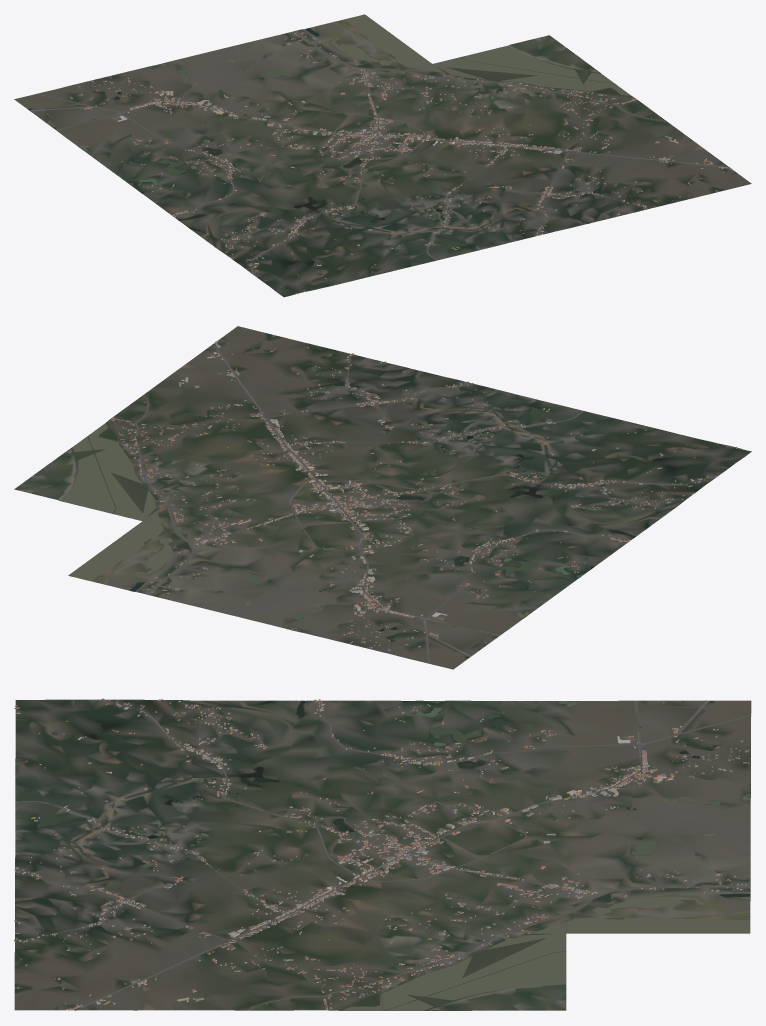
3 views of the same model, one above another, from view 1: azimuth 30°, elevation 25°; view 2: azimuth 150°, elevation 25°; view 3: azimuth 270°, elevation 25° (orthographic). The views are drawn at different scales.
Visible parts, largest first — view 1: ground, water, buildings, roads; view 2: ground, water, buildings, roads; view 3: ground, water, buildings, roads.
Boxes of the visible parts, left/top/right/bottom form: ground: left=14, top=19, right=751, bottom=297; water: left=29, top=14, right=631, bottom=264; buildings: left=49, top=31, right=732, bottom=294; roads: left=29, top=30, right=729, bottom=274; ground: left=14, top=326, right=751, bottom=669; water: left=60, top=371, right=675, bottom=658; buildings: left=111, top=335, right=741, bottom=650; roads: left=135, top=344, right=718, bottom=663; ground: left=14, top=699, right=751, bottom=1010; water: left=16, top=700, right=750, bottom=1010; buildings: left=14, top=698, right=749, bottom=1010; roads: left=15, top=699, right=751, bottom=1010.
Size of the model in its own units: 5613 by 41.9 by 5626.
